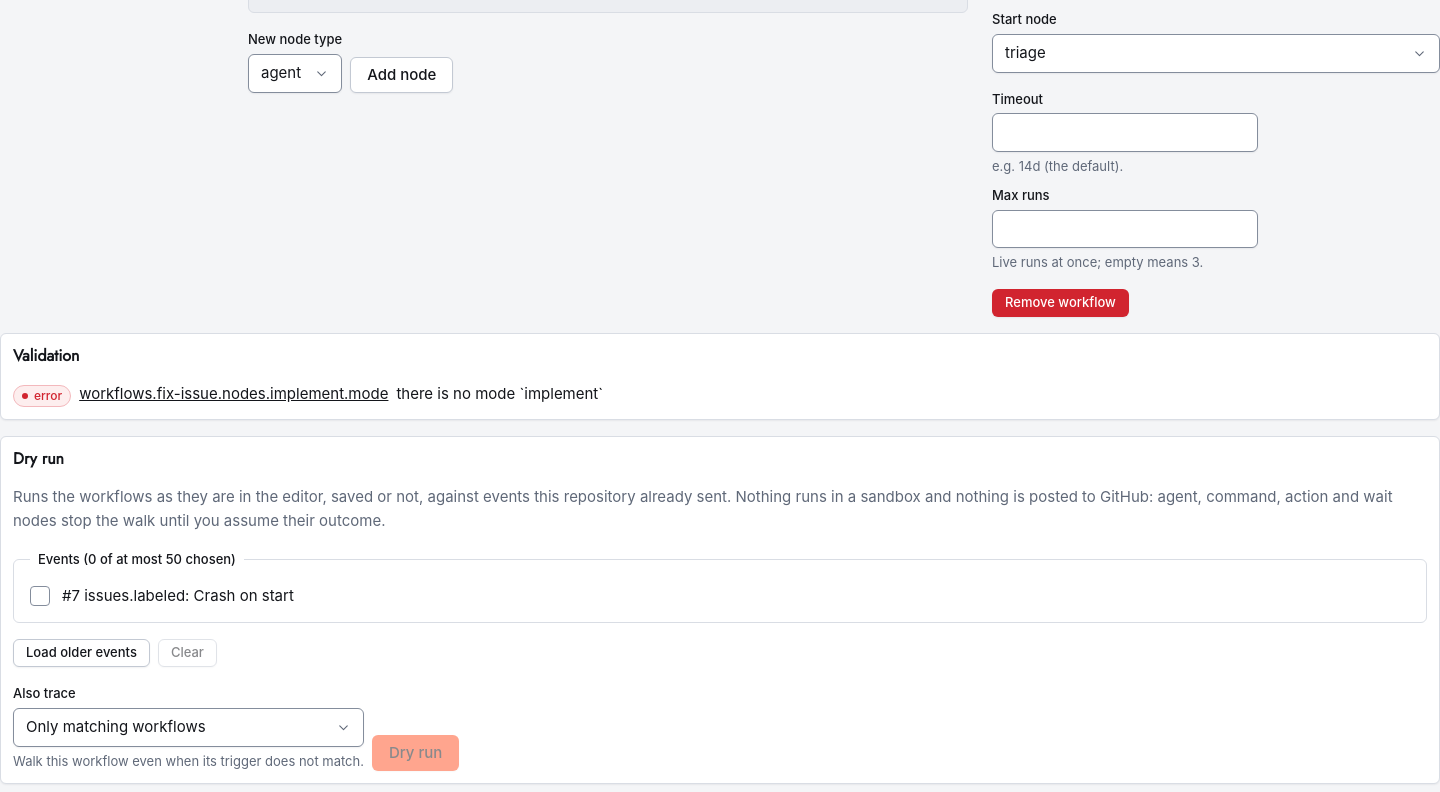
WorkflowsDesigner › lists diagnostics, selects their node and refuses to save with errors
(page scrolled)
Click the button "workflows.fix-issue.nodes.implement.mode".
click(234, 394)  # box [79,382,388,406]
(page scrolled)
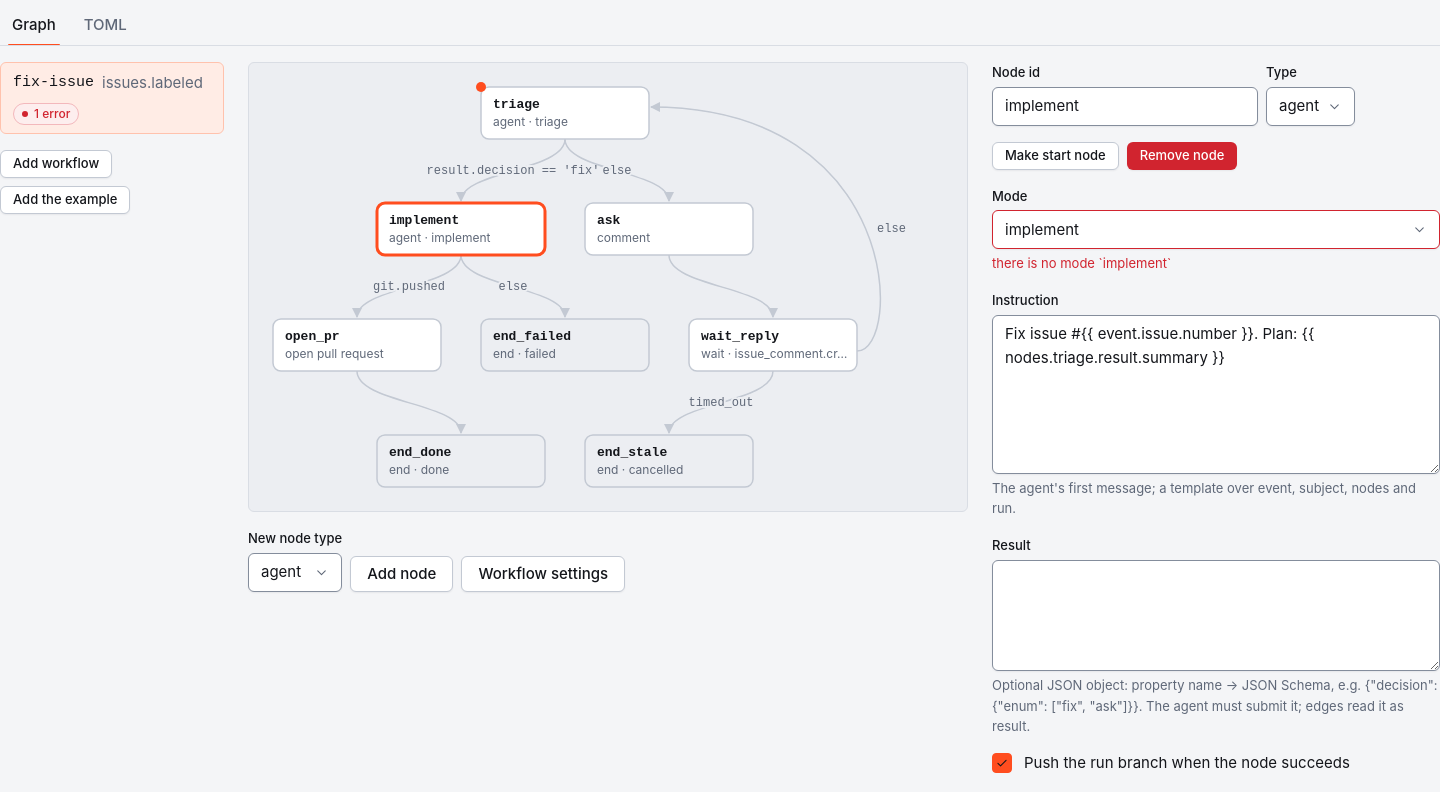
Now the field labelled "Node id" holds "implement", box [992,87,1258,126]
Replace the text in the text box labelled "Instruction" with "changed" at (1216, 394), box [992,315,1439,474]
(page scrolled)
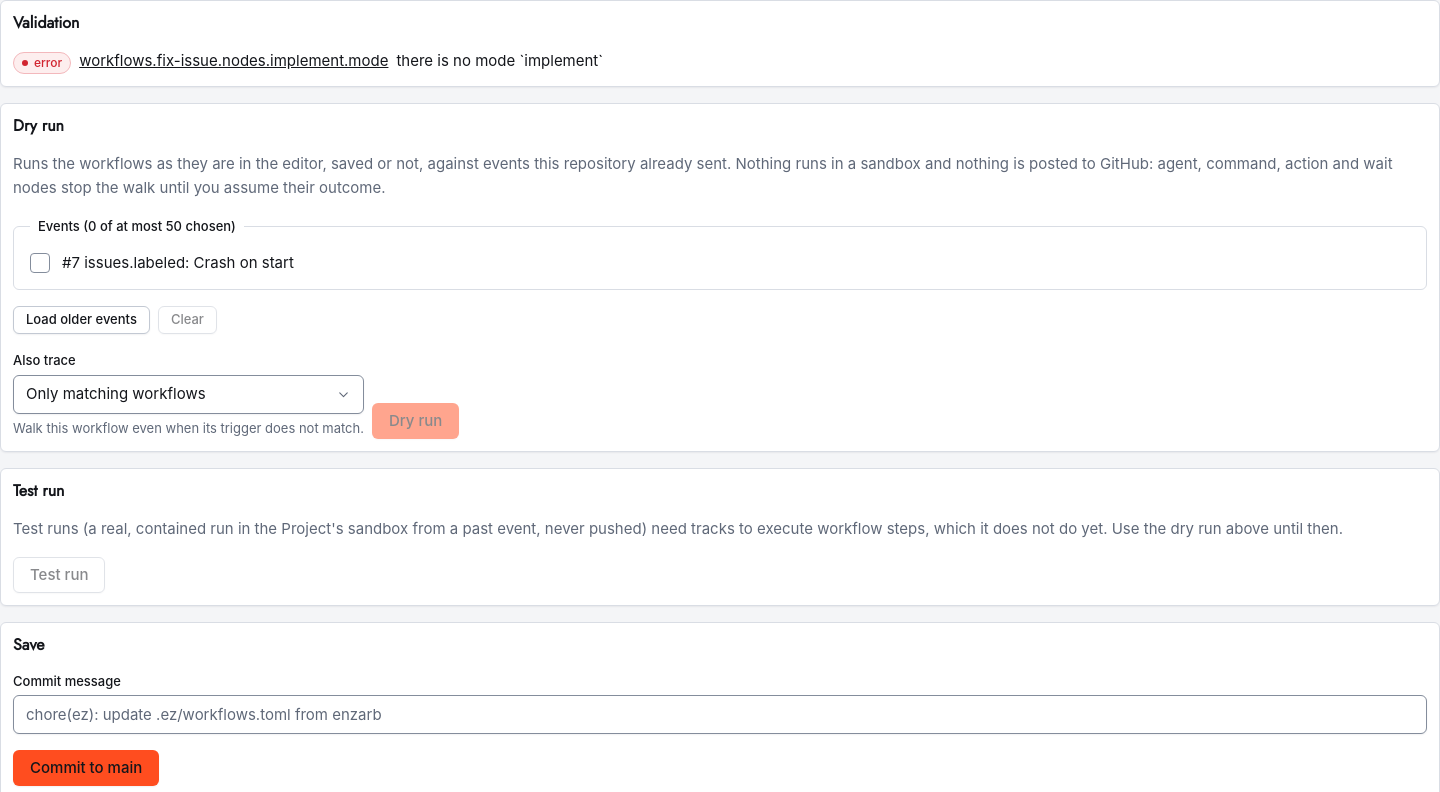
Click the button "Commit to main".
click(86, 768)  # box [13,750,159,786]
(page scrolled)
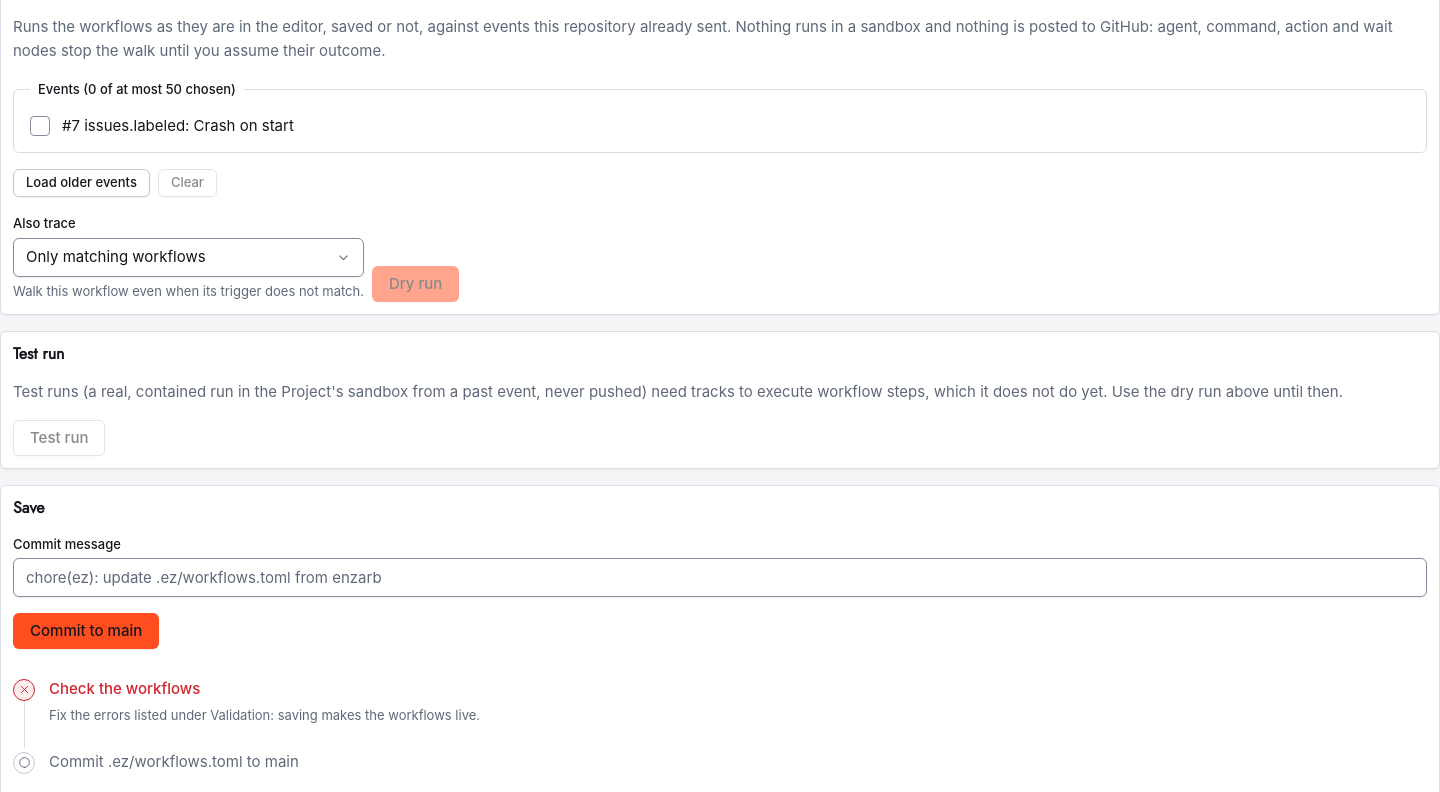
Now the text "Fix the errors listed under Validation" is shown, box [49,707,480,723]
